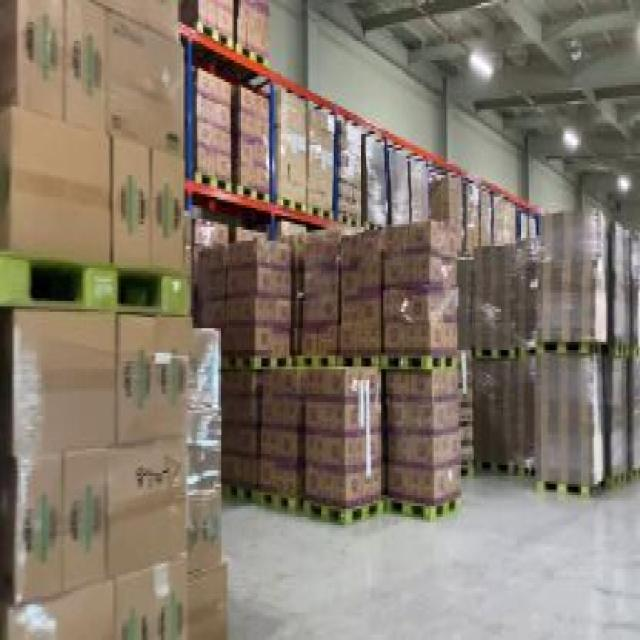box: (2, 0, 229, 629), (195, 230, 460, 514), (458, 208, 638, 492), (192, 68, 276, 200), (272, 90, 334, 230), (437, 169, 521, 260), (170, 0, 276, 71), (337, 117, 386, 240), (386, 148, 429, 238)
